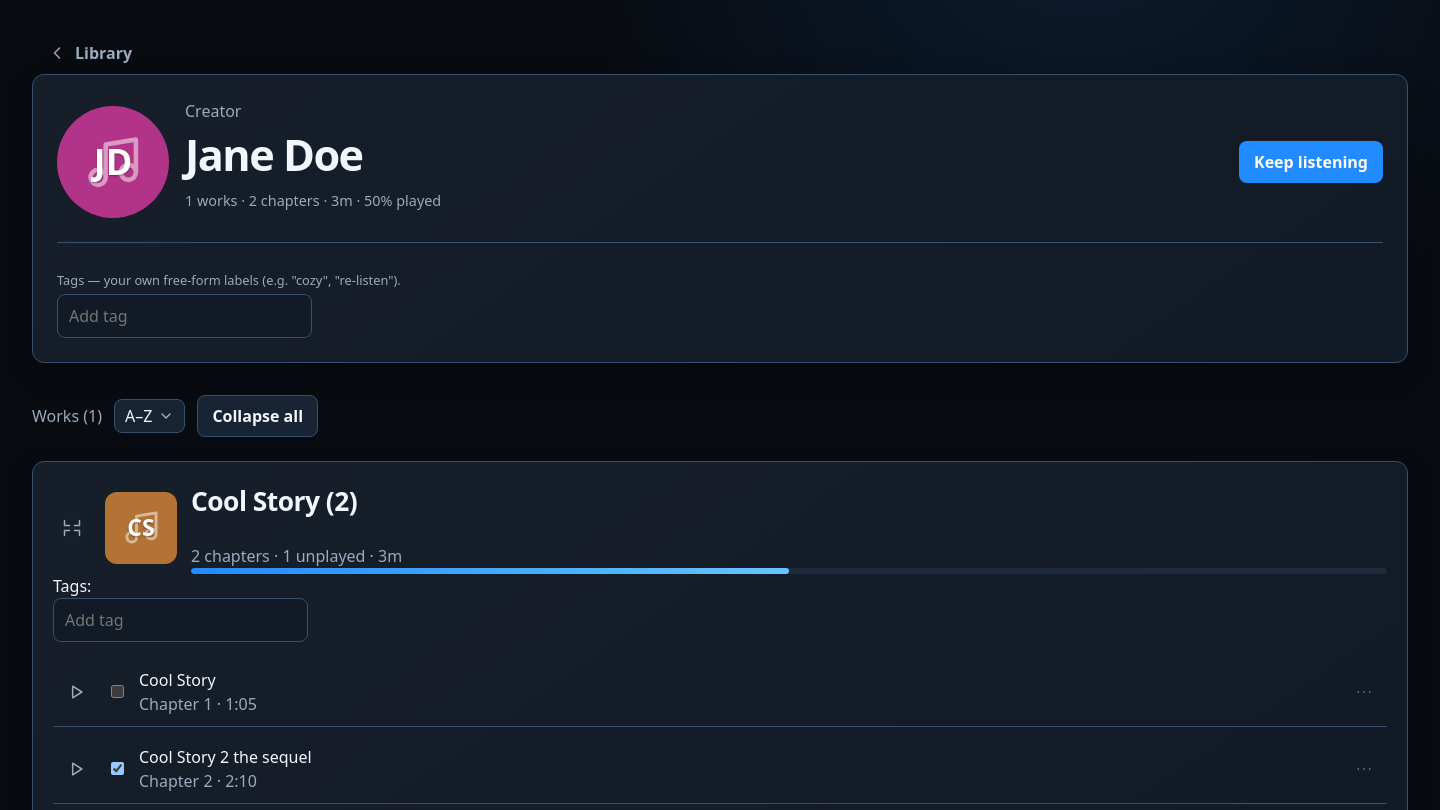
Scenario: AuthorDetailView › Collapse all hides chapter items and button changes to Expand all; Expand all restores them
Expected: the text "Cool Story 2 the sequel" is shown, [139,746,312,768]
# Click "Collapse all".
Click the button "Collapse all" at [258, 416], box [197,395,318,437]
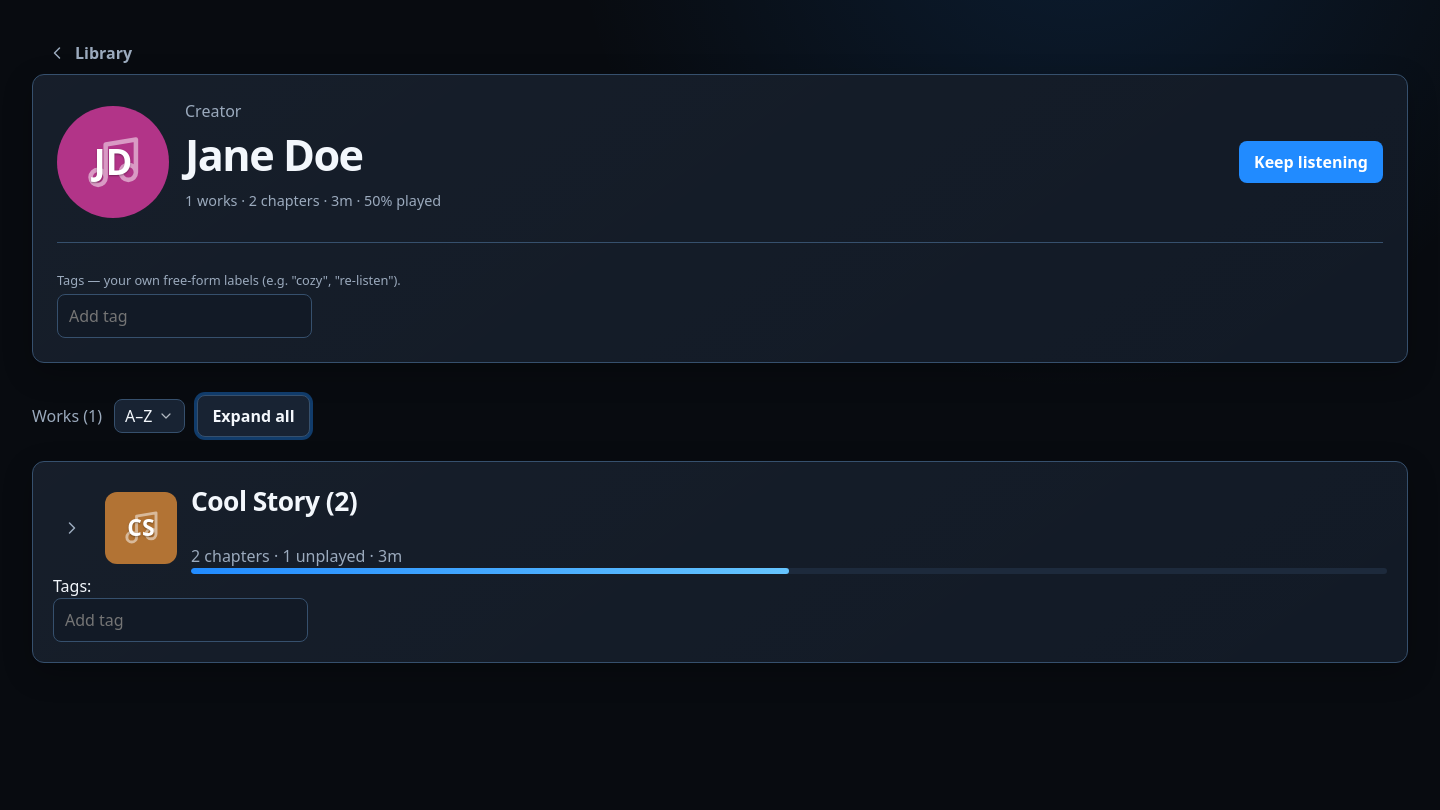
Expected: the text "Cool Story 2 the sequel" is gone
Expected: the button "Expand all" is shown
# Click "Expand all" to restore.
Click the button "Expand all" at [254, 416], box [197,395,310,437]
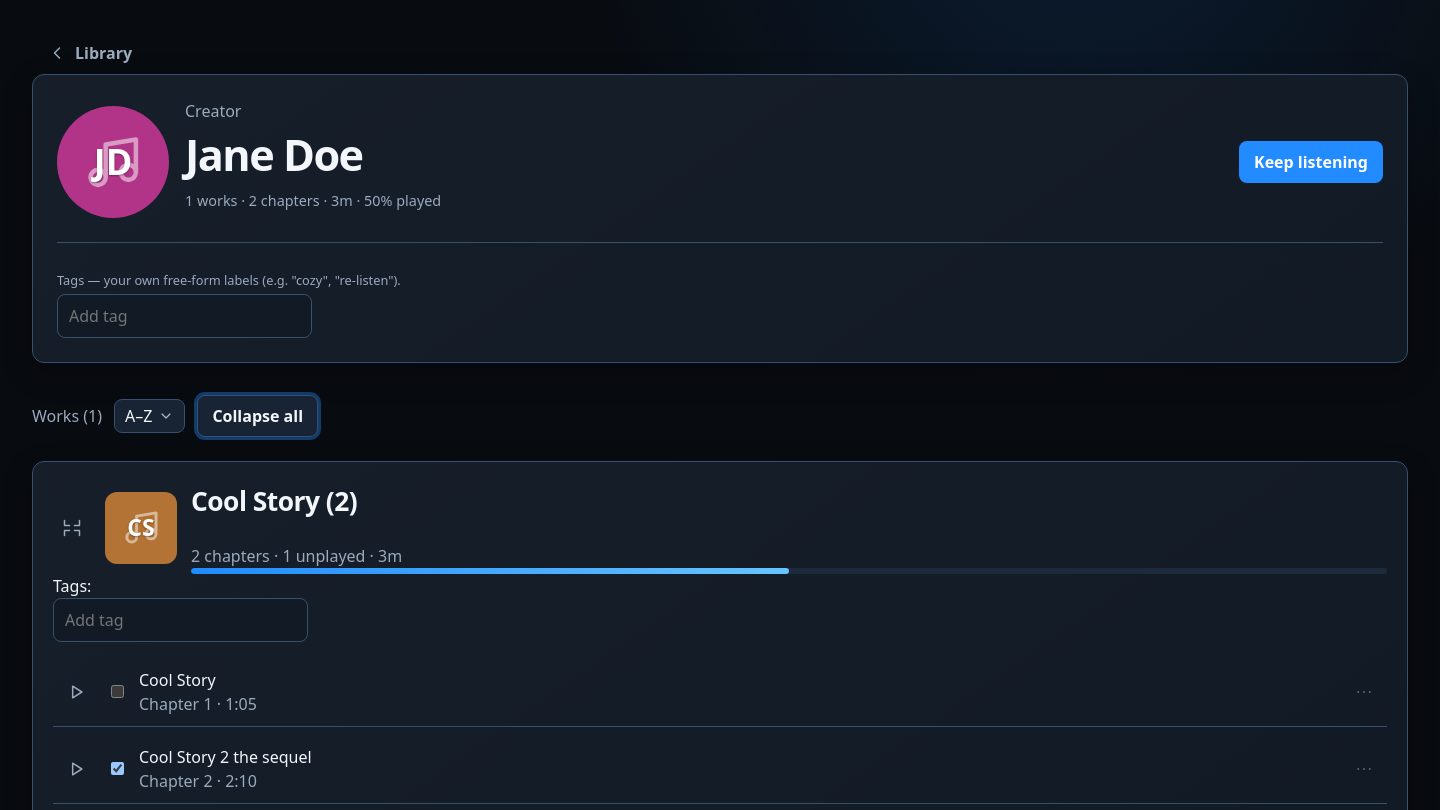
Expected: the text "Cool Story 2 the sequel" is shown, [139,746,312,768]
